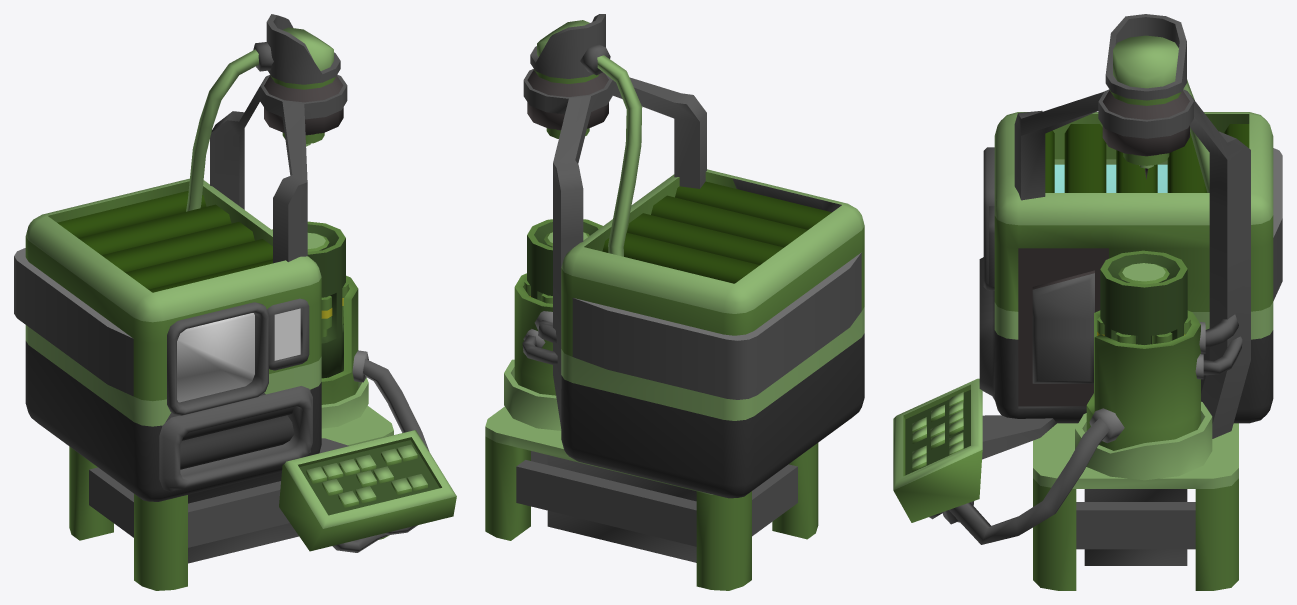
File: Biogenerator.fbx
The picture shows the model from 3 angles, left to right: view 1: azimuth 30°, elevation 25°; view 2: azimuth 150°, elevation 25°; view 3: azimuth 270°, elevation 25°; orthographic projection. The views are drawn at different scales.
Parts seen in each view (by area): view 1: Biogenerator; view 2: Biogenerator; view 3: Biogenerator.
Part boxes in pixels (box(x1,y1,x2,y2)): Biogenerator: box(14, 14, 456, 590); Biogenerator: box(485, 14, 864, 590); Biogenerator: box(893, 14, 1282, 590).
Bounding box in the file's own units: 0.931 × 1.39 × 0.92.
